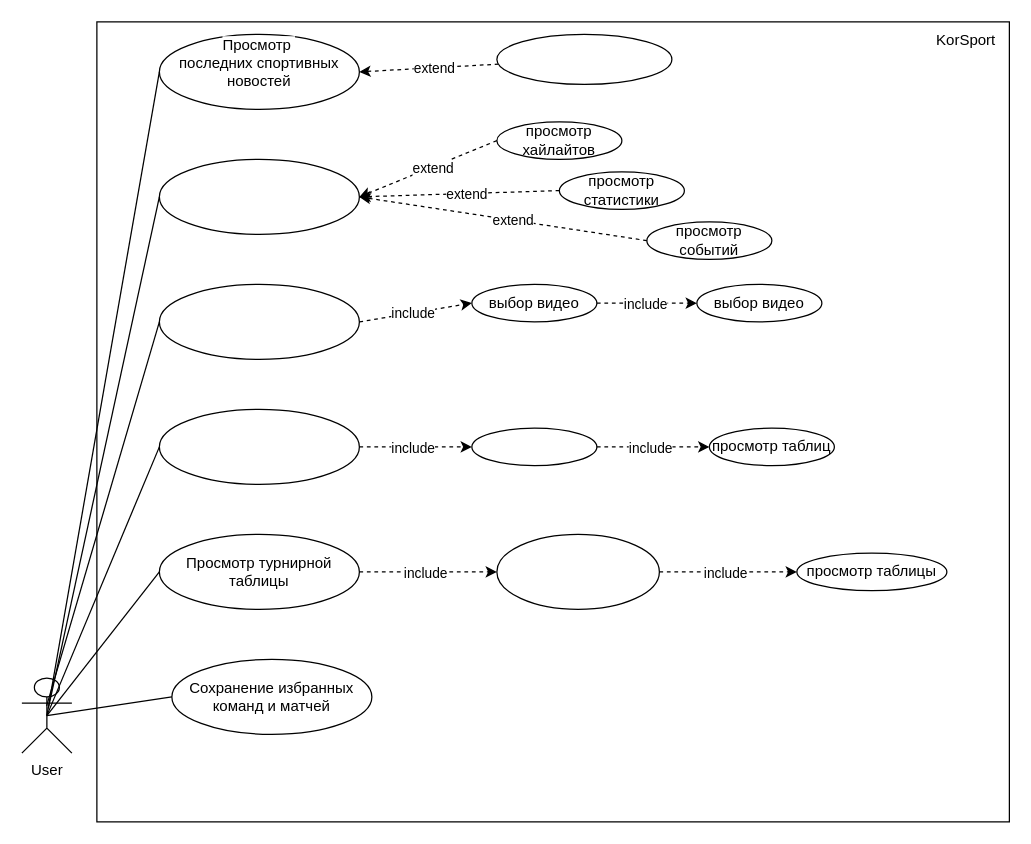
The diagram is 1031 pixels wide and 844 high, and some of its shapes have lost their labels. Each missing label, with the box of its shape:
выбор матча: (471, 427, 597, 466)
Детальный анализ матча: (158, 408, 359, 484)
переход на страницу турнирной таблицы: (496, 533, 659, 609)
Получение уведомлений о результатах матчей: (158, 158, 359, 234)
просмотр видое, которое в новости: (496, 33, 672, 84)
Просмотр трансляции: (158, 283, 359, 359)
